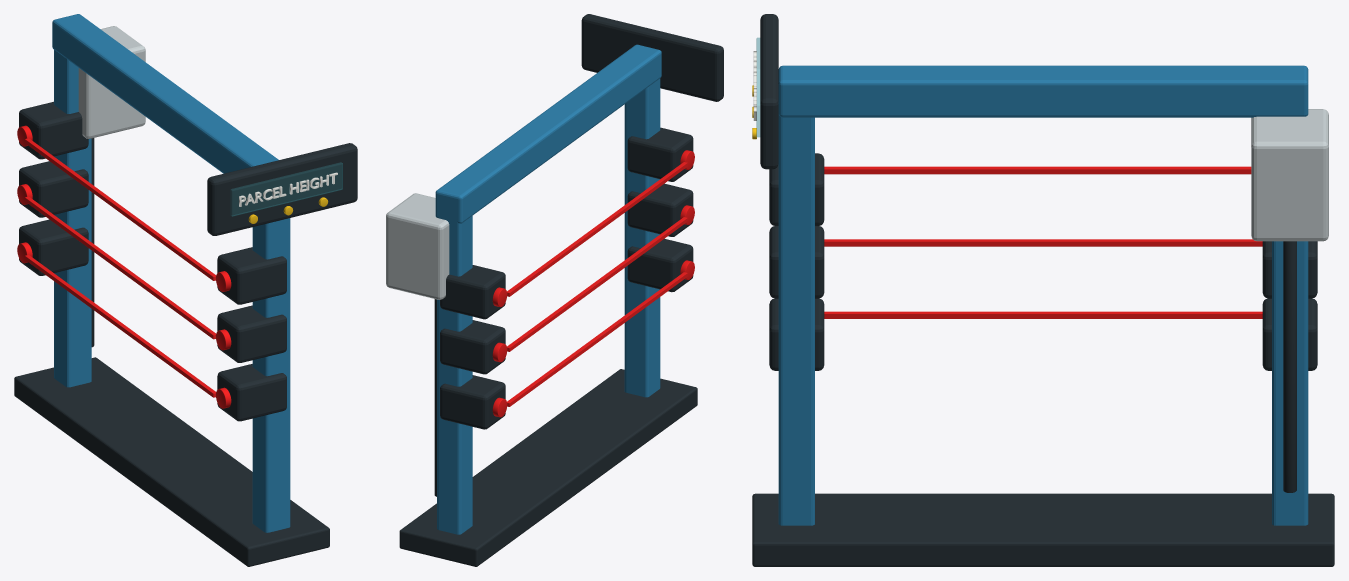
File: three_height_parcel_sensor_bank.glb
3 views of the same model, side by side, from view 1: azimuth 30°, elevation 25°; view 2: azimuth 150°, elevation 25°; view 3: azimuth 270°, elevation 25° (orthographic). The views are drawn at different scales.
Parts seen in each view (by area): view 1: PORTAL_BASE, PORTAL_HEADER, HEIGHT_READOUT, PORTAL_POST_-1.08, PORTAL_POST_1.08, JUNCTION_BOX, SENSOR_HOUSING_3_-1.08, SENSOR_HOUSING_2_-1.08, SENSOR_HOUSING_1_-1.08, SENSOR_HOUSING_2_1.08, SENSOR_HOUSING_3_1.08, SENSOR_HOUSING_1_1.08 (+6 smaller); view 2: PORTAL_BASE, PORTAL_HEADER, PORTAL_POST_1.08, PORTAL_POST_-1.08, HEIGHT_READOUT, JUNCTION_BOX, SENSOR_HOUSING_1_1.08, SENSOR_HOUSING_2_1.08, SENSOR_HOUSING_3_-1.08, SENSOR_HOUSING_3_1.08, SENSOR_HOUSING_2_-1.08, SENSOR_HOUSING_1_-1.08 (+4 smaller); view 3: PORTAL_BASE, PORTAL_HEADER, PORTAL_POST_-1.08, JUNCTION_BOX, PORTAL_POST_1.08, KIN_beam_size_3, CABLE_TRUNK, KIN_beam_size_1, KIN_beam_size_2, HEIGHT_READOUT, SENSOR_HOUSING_2_-1.08, SENSOR_HOUSING_1_1.08 (+3 smaller).
Part boxes in pixels (x1,y1,x2,y2): PORTAL_BASE: (14, 357, 329, 566); PORTAL_HEADER: (52, 14, 278, 173); HEIGHT_READOUT: (207, 143, 357, 235); PORTAL_POST_-1.08: (252, 218, 290, 532); PORTAL_POST_1.08: (54, 50, 91, 387); JUNCTION_BOX: (78, 26, 145, 138); SENSOR_HOUSING_3_-1.08: (217, 247, 286, 304); SENSOR_HOUSING_2_-1.08: (217, 305, 286, 362); SENSOR_HOUSING_1_-1.08: (217, 364, 286, 421); SENSOR_HOUSING_2_1.08: (19, 161, 88, 217); SENSOR_HOUSING_3_1.08: (19, 101, 88, 159); SENSOR_HOUSING_1_1.08: (19, 219, 88, 275); PORTAL_BASE: (399, 369, 697, 566); PORTAL_HEADER: (435, 44, 661, 223); PORTAL_POST_1.08: (437, 208, 472, 534); PORTAL_POST_-1.08: (624, 78, 660, 397); HEIGHT_READOUT: (581, 14, 723, 101); JUNCTION_BOX: (386, 193, 449, 299); SENSOR_HOUSING_1_1.08: (440, 375, 505, 429); SENSOR_HOUSING_2_1.08: (440, 320, 505, 374); SENSOR_HOUSING_3_-1.08: (627, 127, 693, 181); SENSOR_HOUSING_3_1.08: (440, 265, 505, 319); SENSOR_HOUSING_2_-1.08: (627, 183, 693, 236); SENSOR_HOUSING_1_-1.08: (627, 238, 693, 292); PORTAL_BASE: (752, 493, 1334, 566); PORTAL_HEADER: (778, 65, 1308, 117); PORTAL_POST_-1.08: (778, 114, 814, 525); JUNCTION_BOX: (1251, 109, 1328, 241); PORTAL_POST_1.08: (1272, 241, 1308, 525); KIN_beam_size_3: (824, 166, 1251, 174); CABLE_TRUNK: (1283, 241, 1296, 492); KIN_beam_size_1: (824, 311, 1262, 318); KIN_beam_size_2: (824, 239, 1262, 246); HEIGHT_READOUT: (760, 14, 778, 169); SENSOR_HOUSING_2_-1.08: (769, 226, 824, 298); SENSOR_HOUSING_1_1.08: (1262, 298, 1317, 370).
Size of the model in its own units: 0.92 by 2.35 by 2.55.
